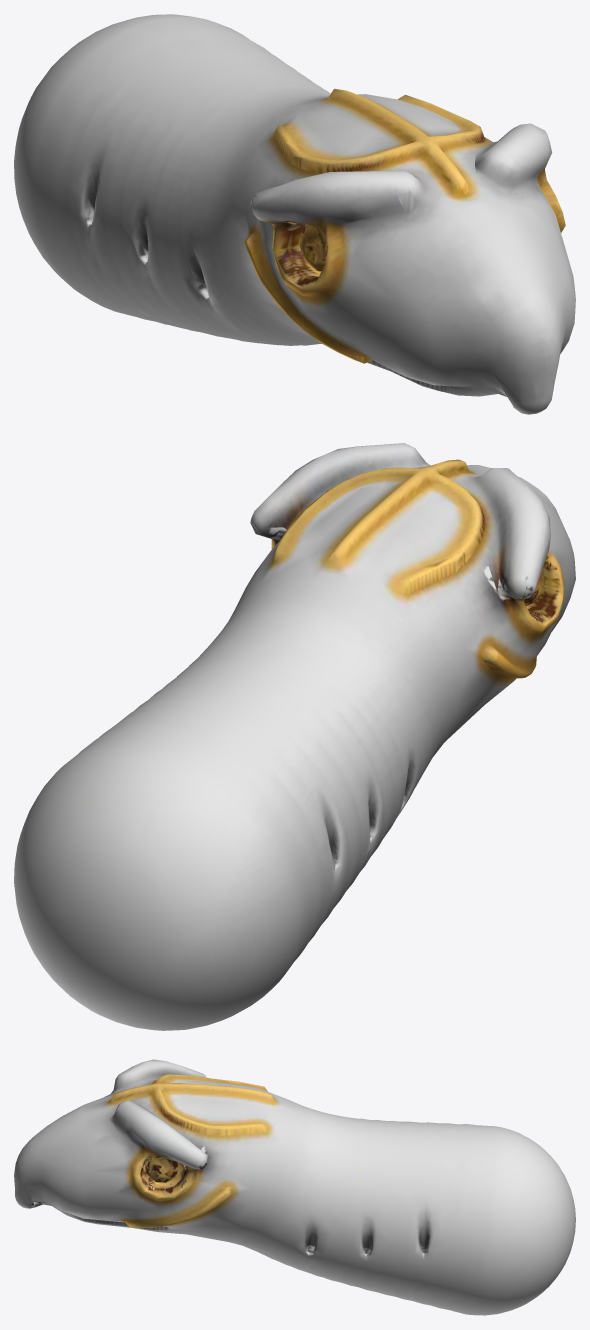
File: rua_dau.glb
3 views of the same model, one above another, from view 1: azimuth 30°, elevation 25°; view 2: azimuth 150°, elevation 25°; view 3: azimuth 270°, elevation 25° (orthographic). The views are drawn at different scales.
Parts seen in each view (by area): view 1: rua_dau; view 2: rua_dau; view 3: rua_dau.
Boxes of the visible parts, bbox=[...] form: rua_dau: bbox=[14, 14, 575, 414]; rua_dau: bbox=[14, 443, 575, 1030]; rua_dau: bbox=[14, 1059, 575, 1315].
Size of the model in its own units: 0.2892 by 0.3487 by 0.7963.
1 material, 1 textured.
